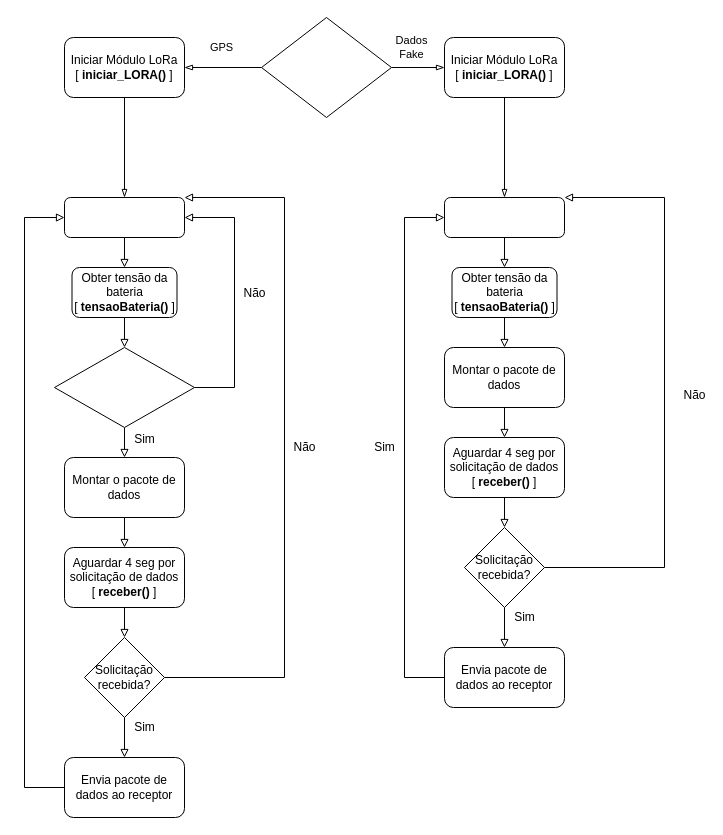
Image size: 723x835. Some labels were removed from this diagram. The shapes that lost their labels are listed below. From the top down, each one's box as (x1, y1, x2, y2) in pixels, then its label:
(260, 16, 392, 118): Modo de funcionamento
(64, 196, 184, 238): Obter dados GPS [ getGPS() ]
(444, 196, 564, 238): Dados Ficticios [ dadosFake() ]
(54, 346, 194, 428): Dados do GPS recebidos?
